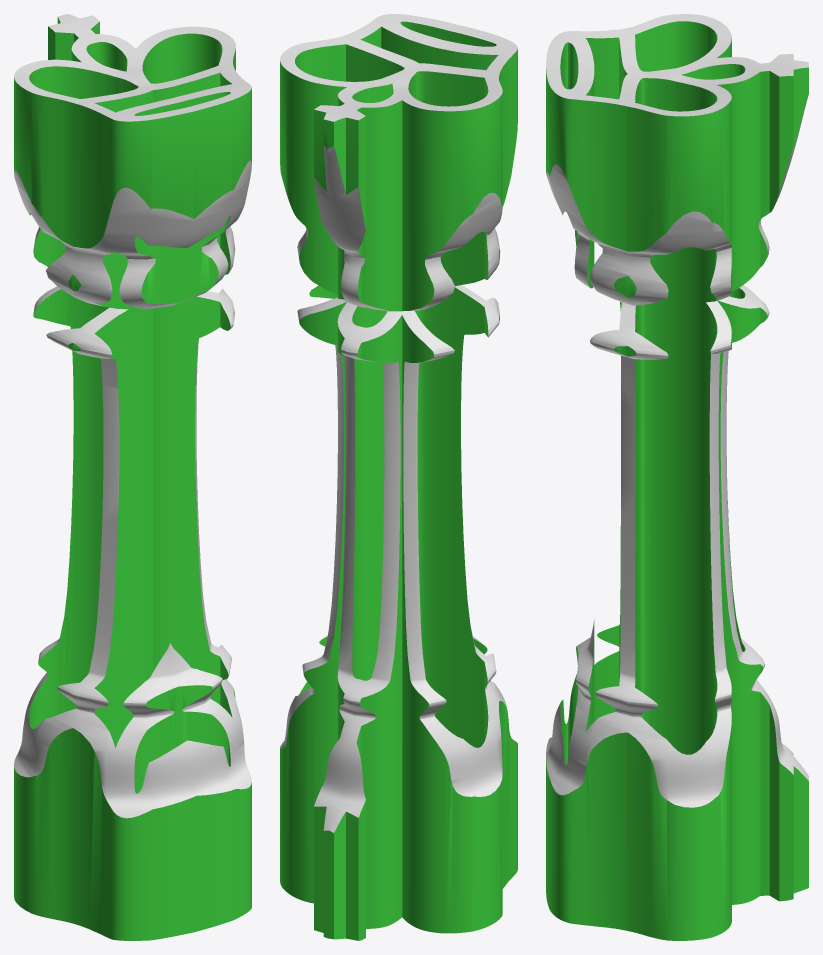
Rendered from White_King.fbx.
3 renders of one model, left to right at view 1: azimuth 30°, elevation 25°; view 2: azimuth 150°, elevation 25°; view 3: azimuth 270°, elevation 25°, orthographic.
Visible parts, largest first — view 1: White_King; view 2: White_King; view 3: White_King.
Part boxes in pixels (left/top/right/bottom): White_King: left=14, top=14, right=251, bottom=940; White_King: left=280, top=14, right=517, bottom=940; White_King: left=546, top=14, right=808, bottom=940.
Bounding box in the file's own units: 41.11 × 44.63 × 155.
